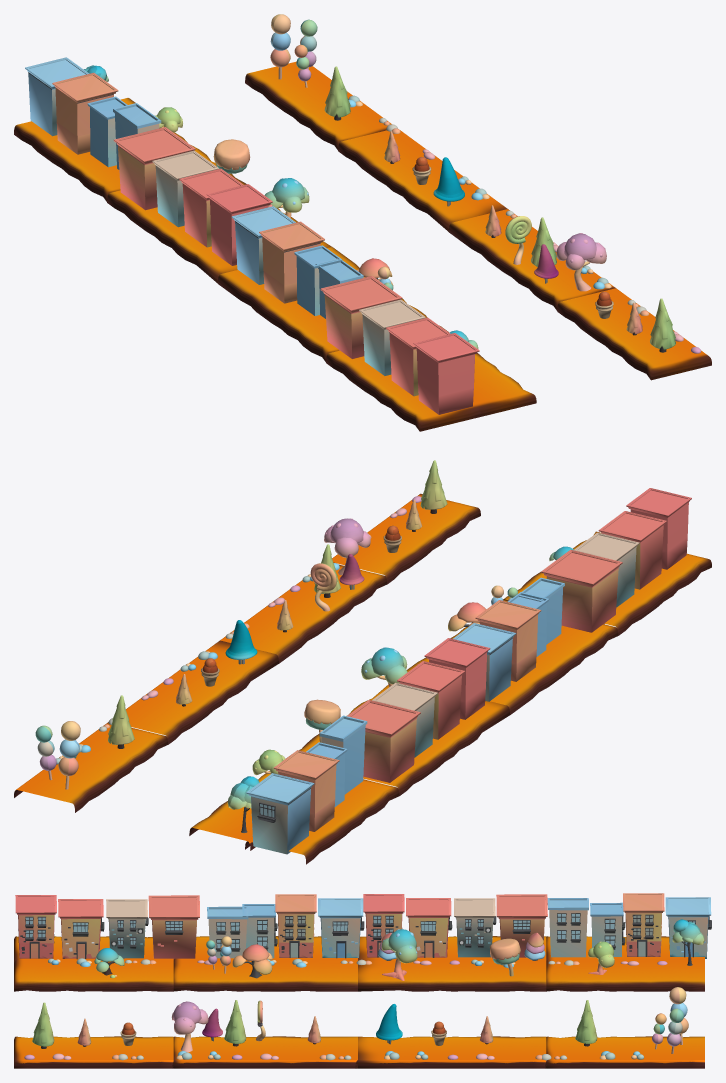
File: side_variation_1.fbx
The picture shows the model from 3 angles, top to bottom: view 1: azimuth 30°, elevation 25°; view 2: azimuth 150°, elevation 25°; view 3: azimuth 270°, elevation 25°; orthographic projection. The views are drawn at different scales.
Visible parts, largest first — view 1: pPlane10.004, pPlane10.003, pPlane10.005, pPlane10.006, pasted___gltfNode_218, pasted___gltfNode_217.001, pasted___gltfNode_217, pasted___gltfNode_66.009, pasted___gltfNode_66.008, pasted___gltfNode_218.001, pPlane10.001, pasted___gltfNode_36 (+18 smaller); view 2: pPlane10.004, pPlane10.003, pPlane10.005, pPlane10.006, pasted___gltfNode_217, pasted___gltfNode_65.007, pasted___gltfNode_217.001, pasted___gltfNode_66.009, pasted___gltfNode_218, pasted___gltfNode_218.001, pasted___gltfNode_66.008, pasted___gltfNode_219 (+20 smaller); view 3: pPlane10.002, pPlane10.004, pPlane10.001, pPlane10.003, pasted___gltfNode_217, pasted___gltfNode_65.006, pasted___gltfNode_219, pasted___gltfNode_218, pasted___gltfNode_66.008, pasted___gltfNode_66.009, pasted___gltfNode_219.001, pasted___gltfNode_48.007 (+27 smaller).
Part boxes in pixels (box(x1,y1,x2,y2)): pPlane10.004: box(245, 61, 508, 231); pPlane10.003: box(449, 209, 711, 380); pPlane10.005: box(218, 270, 480, 431); pPlane10.006: box(14, 121, 237, 283); pasted___gltfNode_218: box(413, 333, 479, 414); pasted___gltfNode_217.001: box(113, 127, 195, 210); pasted___gltfNode_217: box(320, 276, 402, 358); pasted___gltfNode_66.009: box(52, 72, 118, 154); pasted___gltfNode_66.008: box(259, 221, 324, 303); pasted___gltfNode_218.001: box(206, 184, 272, 265); pPlane10.001: box(327, 247, 536, 417); pasted___gltfNode_36: box(359, 299, 425, 375); pPlane10.004: box(14, 640, 278, 812); pPlane10.003: box(220, 493, 480, 663); pPlane10.005: box(490, 553, 711, 714); pPlane10.006: box(245, 701, 509, 864); pasted___gltfNode_217: box(541, 549, 622, 632); pasted___gltfNode_65.007: box(246, 773, 314, 854); pasted___gltfNode_217.001: box(347, 700, 420, 782); pasted___gltfNode_66.009: box(273, 750, 339, 831); pasted___gltfNode_218: box(626, 488, 691, 569); pasted___gltfNode_218.001: box(424, 638, 490, 719); pasted___gltfNode_66.008: box(475, 600, 541, 681); pasted___gltfNode_219: box(598, 511, 666, 589); pPlane10.002: box(358, 959, 704, 991); pPlane10.004: box(355, 1036, 704, 1068); pPlane10.001: box(14, 959, 357, 991); pPlane10.003: box(14, 1036, 357, 1068); pasted___gltfNode_217: box(148, 895, 199, 958); pasted___gltfNode_65.006: box(318, 898, 364, 958); pasted___gltfNode_219: box(58, 899, 104, 959); pasted___gltfNode_218: box(15, 895, 56, 958); pasted___gltfNode_66.008: box(275, 894, 316, 957); pasted___gltfNode_66.009: box(623, 893, 664, 956); pasted___gltfNode_219.001: box(406, 898, 452, 957); pasted___gltfNode_48.007: box(547, 898, 588, 957).
Bounding box in the file's own units: 6663 × 1674 × 16145.
4 materials, 4 textured.
